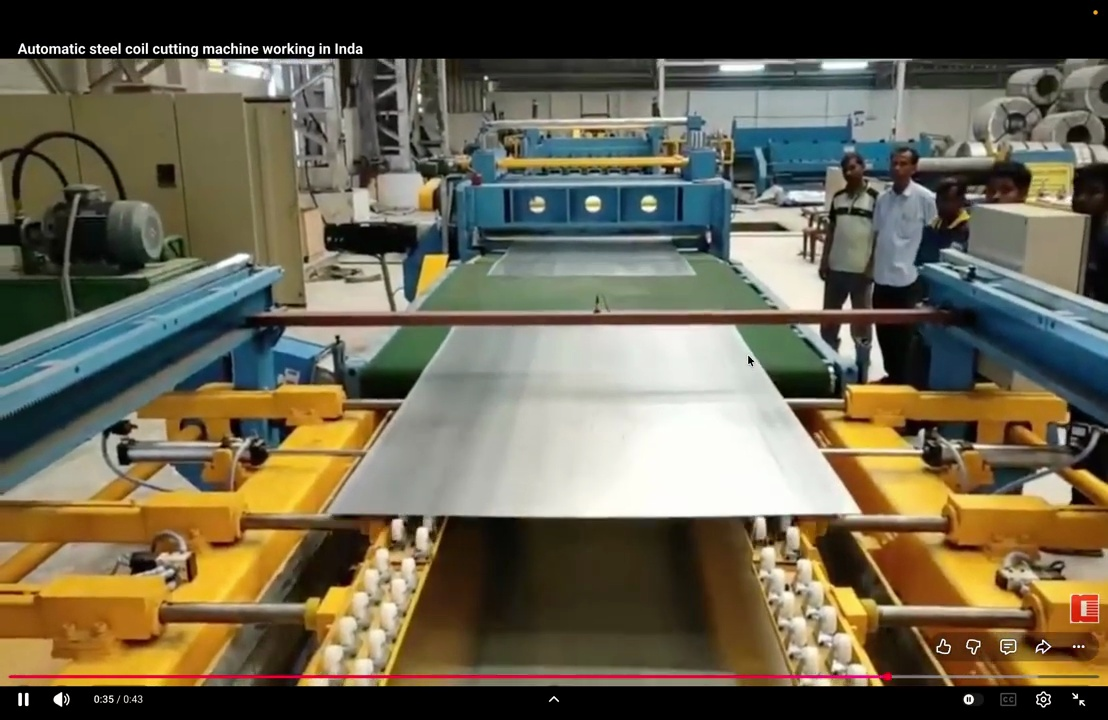steel plate: (331, 326, 857, 517), (489, 239, 693, 276)
